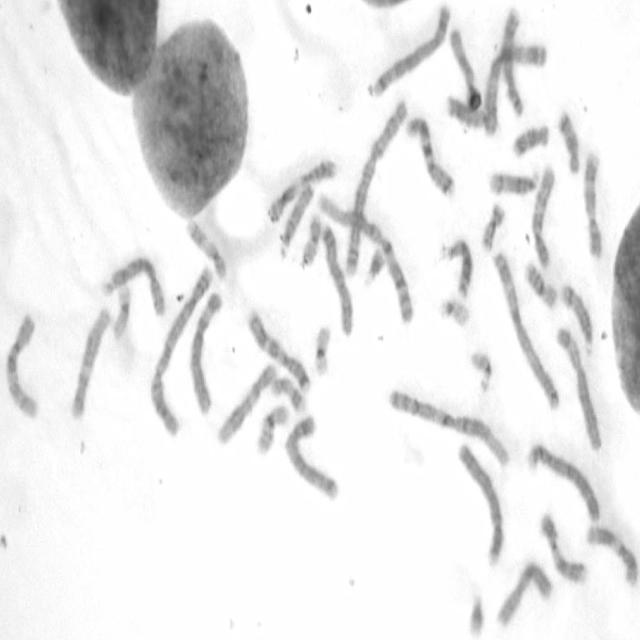A1: (316, 187, 416, 324), (386, 383, 514, 469)
A2: (340, 90, 410, 282), (147, 262, 215, 438)
A3: (491, 244, 562, 413), (480, 37, 548, 136)
B4: (523, 436, 602, 526), (454, 438, 506, 566)
B5: (368, 0, 452, 98), (282, 409, 341, 504)
C10: (2, 308, 40, 422), (528, 162, 556, 270)
C11: (266, 154, 338, 224), (583, 519, 639, 589)
C12: (214, 357, 278, 448), (67, 302, 113, 421)
C6: (554, 320, 604, 453), (186, 285, 227, 418)
C7: (245, 300, 313, 394), (403, 110, 457, 200)
C8: (100, 253, 168, 319), (500, 2, 526, 119)
C9: (537, 507, 589, 588), (580, 145, 605, 261)
D13: (437, 233, 475, 300), (444, 89, 490, 130)
D14: (558, 278, 594, 356), (485, 164, 540, 198)
D15: (278, 178, 316, 258), (444, 29, 478, 93)
E16: (253, 400, 290, 458), (522, 256, 559, 311)
E17: (183, 213, 228, 280), (269, 372, 306, 414)
E18: (555, 106, 581, 176), (509, 117, 551, 160)
F19: (110, 278, 134, 342), (311, 319, 333, 379)
F20: (478, 196, 507, 253), (300, 209, 322, 269)
G21: (464, 582, 487, 636), (362, 240, 388, 287)
G22: (436, 292, 471, 329), (468, 346, 493, 394)
X: (492, 552, 554, 630), (319, 218, 356, 339)
